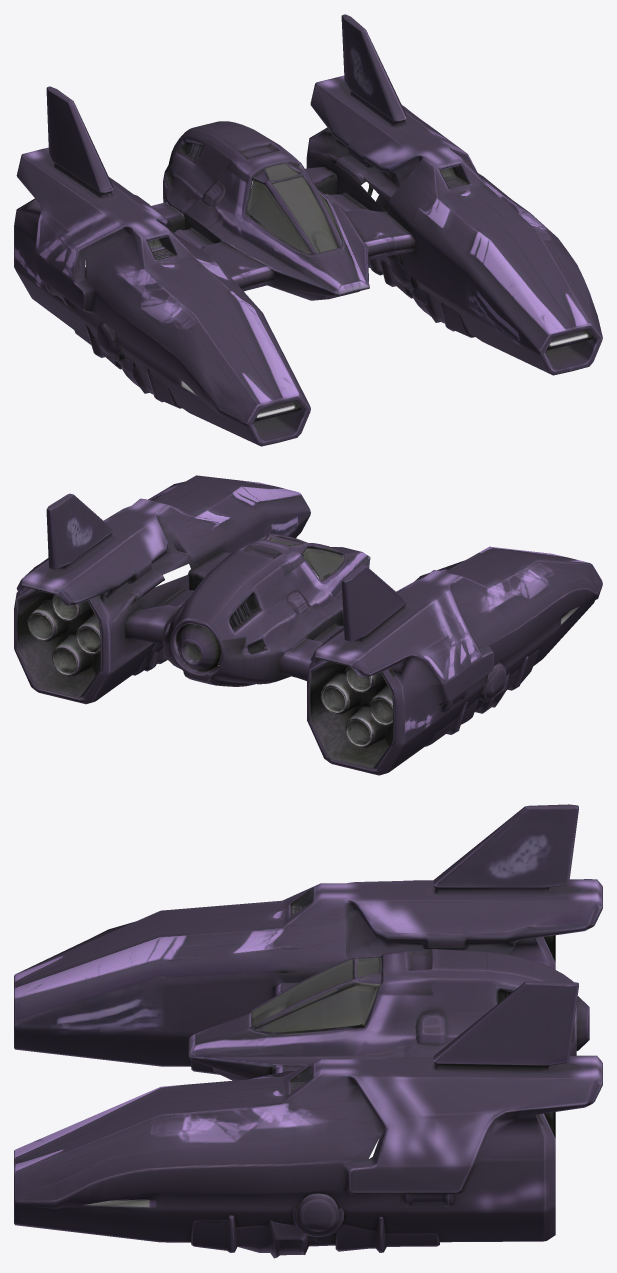
The model's file is pulse.glb.
3 views of the same model, one above another, from view 1: azimuth 30°, elevation 25°; view 2: azimuth 150°, elevation 25°; view 3: azimuth 270°, elevation 25° (orthographic). The views are drawn at different scales.
Visible parts, largest first — view 1: tripo_353a0ef7_6b20_4492_84fb_ece4bdf1e495; view 2: tripo_353a0ef7_6b20_4492_84fb_ece4bdf1e495; view 3: tripo_353a0ef7_6b20_4492_84fb_ece4bdf1e495.
Part boxes in pixels (bbox=[...]): tripo_353a0ef7_6b20_4492_84fb_ece4bdf1e495: bbox=[14, 14, 602, 446]; tripo_353a0ef7_6b20_4492_84fb_ece4bdf1e495: bbox=[14, 475, 602, 775]; tripo_353a0ef7_6b20_4492_84fb_ece4bdf1e495: bbox=[14, 804, 602, 1258].
Bounding box in the file's own units: 0.9878 × 0.4868 × 0.9995.
1 material, 1 textured.
